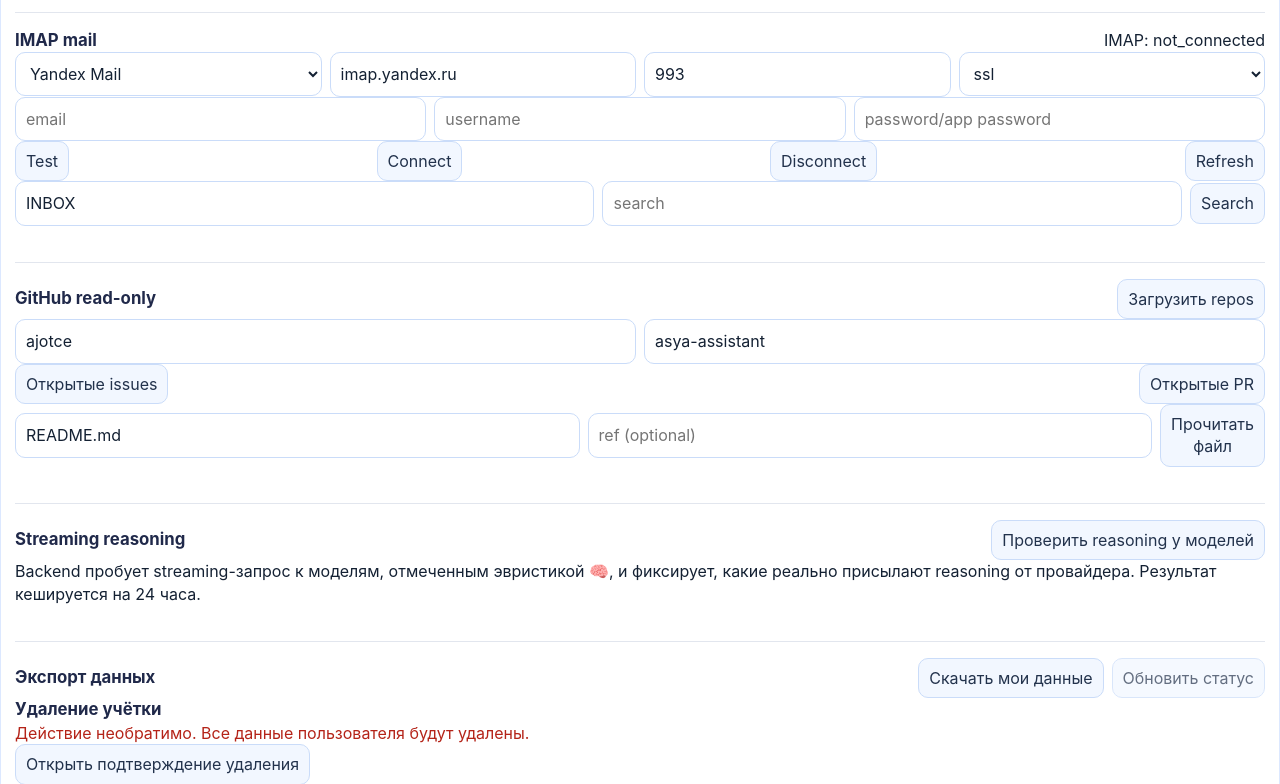
SettingsPage › показывает heuristic-бейдж 🧠 у reasoning-моделей и подтверждённый ✅ после probe
(page scrolled)
What coordinates should you click on to do the following:
click the button "Проверить reasoning у моделей"
I would click on:
 (1128, 540)
Its box is [991,520,1265,560].
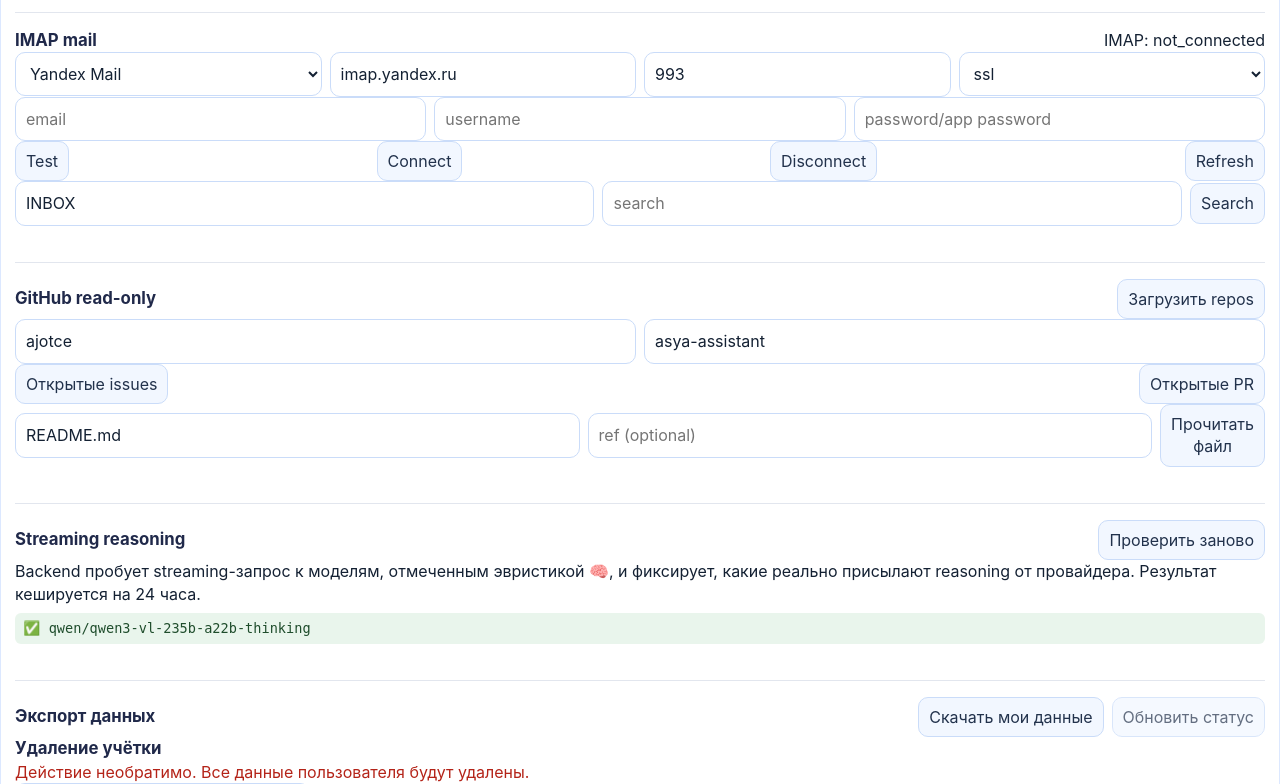
Expected: the list with test id "reasoning-probe-results" shows "qwen/qwen3-vl-235b-a22b-thinking", [49,620,311,636]
